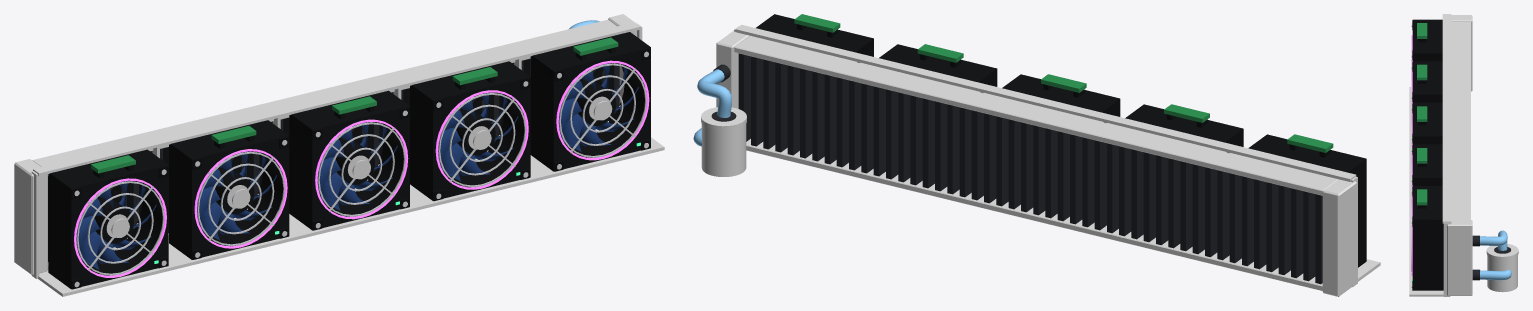
The model's file is hwm_cool_two_phase.glb.
3 views of the same model, side by side, from view 1: azimuth 30°, elevation 25°; view 2: azimuth 150°, elevation 25°; view 3: azimuth 270°, elevation 25° (orthographic). The views are drawn at different scales.
Parts seen in each view (by area): view 1: Body, Rotor_Z_1, Rotor_Z_3, Rotor_Z_4, Rotor_Z_2, Rotor_Z_0; view 2: Body, Flow_0; view 3: Body, Flow_0, Flow_1.
Boxes of the visible parts, x1,y1,x2,y2 form: Body: (14, 14, 664, 296); Rotor_Z_1: (197, 151, 277, 240); Rotor_Z_3: (438, 92, 518, 181); Rotor_Z_4: (558, 63, 638, 151); Rotor_Z_2: (317, 122, 397, 210); Rotor_Z_0: (76, 181, 156, 269); Body: (701, 14, 1380, 296); Flow_0: (697, 69, 731, 117); Body: (1409, 14, 1518, 296); Flow_0: (1480, 230, 1507, 250); Flow_1: (1480, 270, 1511, 280).
Bounding box in the file's own units: 0.582 × 0.1033 × 0.1276.
